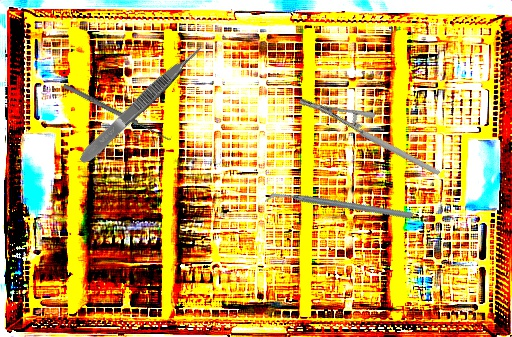Chopper: (264, 142, 415, 272)
Hook Surgical: (61, 78, 175, 144)
Needle Holder: (297, 63, 441, 212)
Tissue Forceps: (75, 42, 208, 167)
